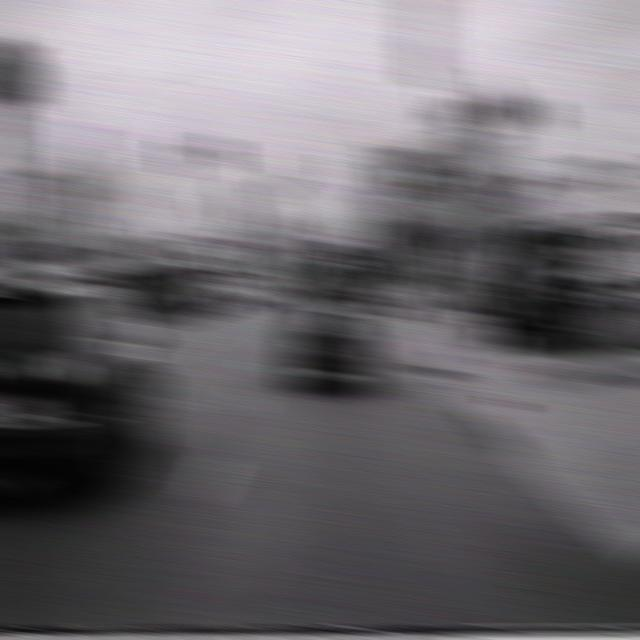speedLimit30: (418, 130, 459, 185)
